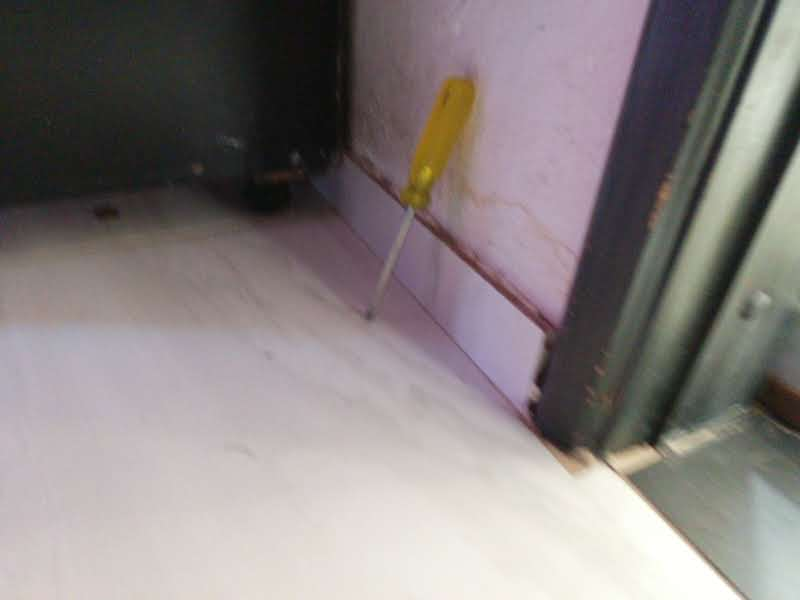Destornillador: (366, 78, 474, 318)
